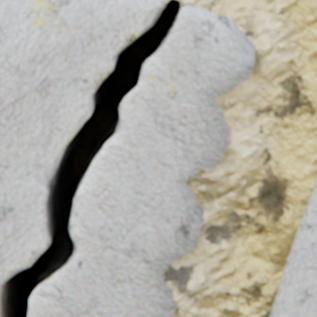brick: (269, 175, 316, 316)
broken_brick: (28, 6, 254, 316), (0, 0, 165, 290)
crack: (0, 0, 181, 316)
